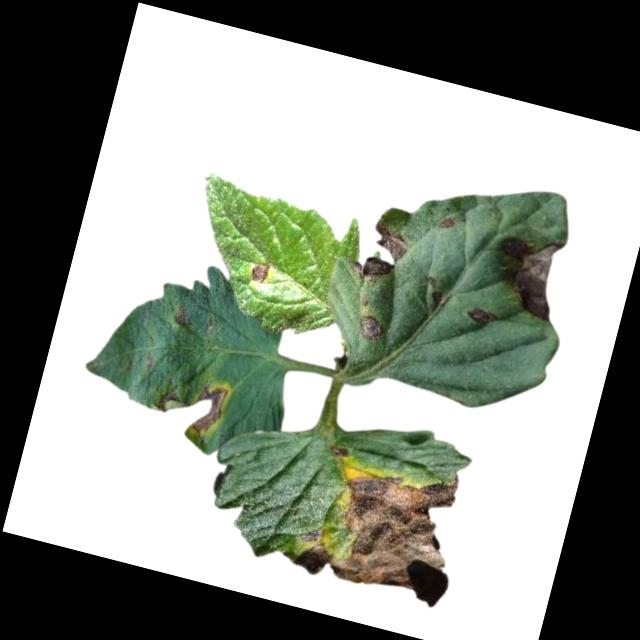Early_blight: (286, 440, 478, 611), (484, 228, 571, 326), (146, 367, 232, 447), (346, 218, 412, 291), (419, 273, 452, 308), (351, 313, 386, 345), (465, 304, 497, 332), (250, 260, 271, 285), (169, 307, 191, 329), (437, 215, 454, 234)
